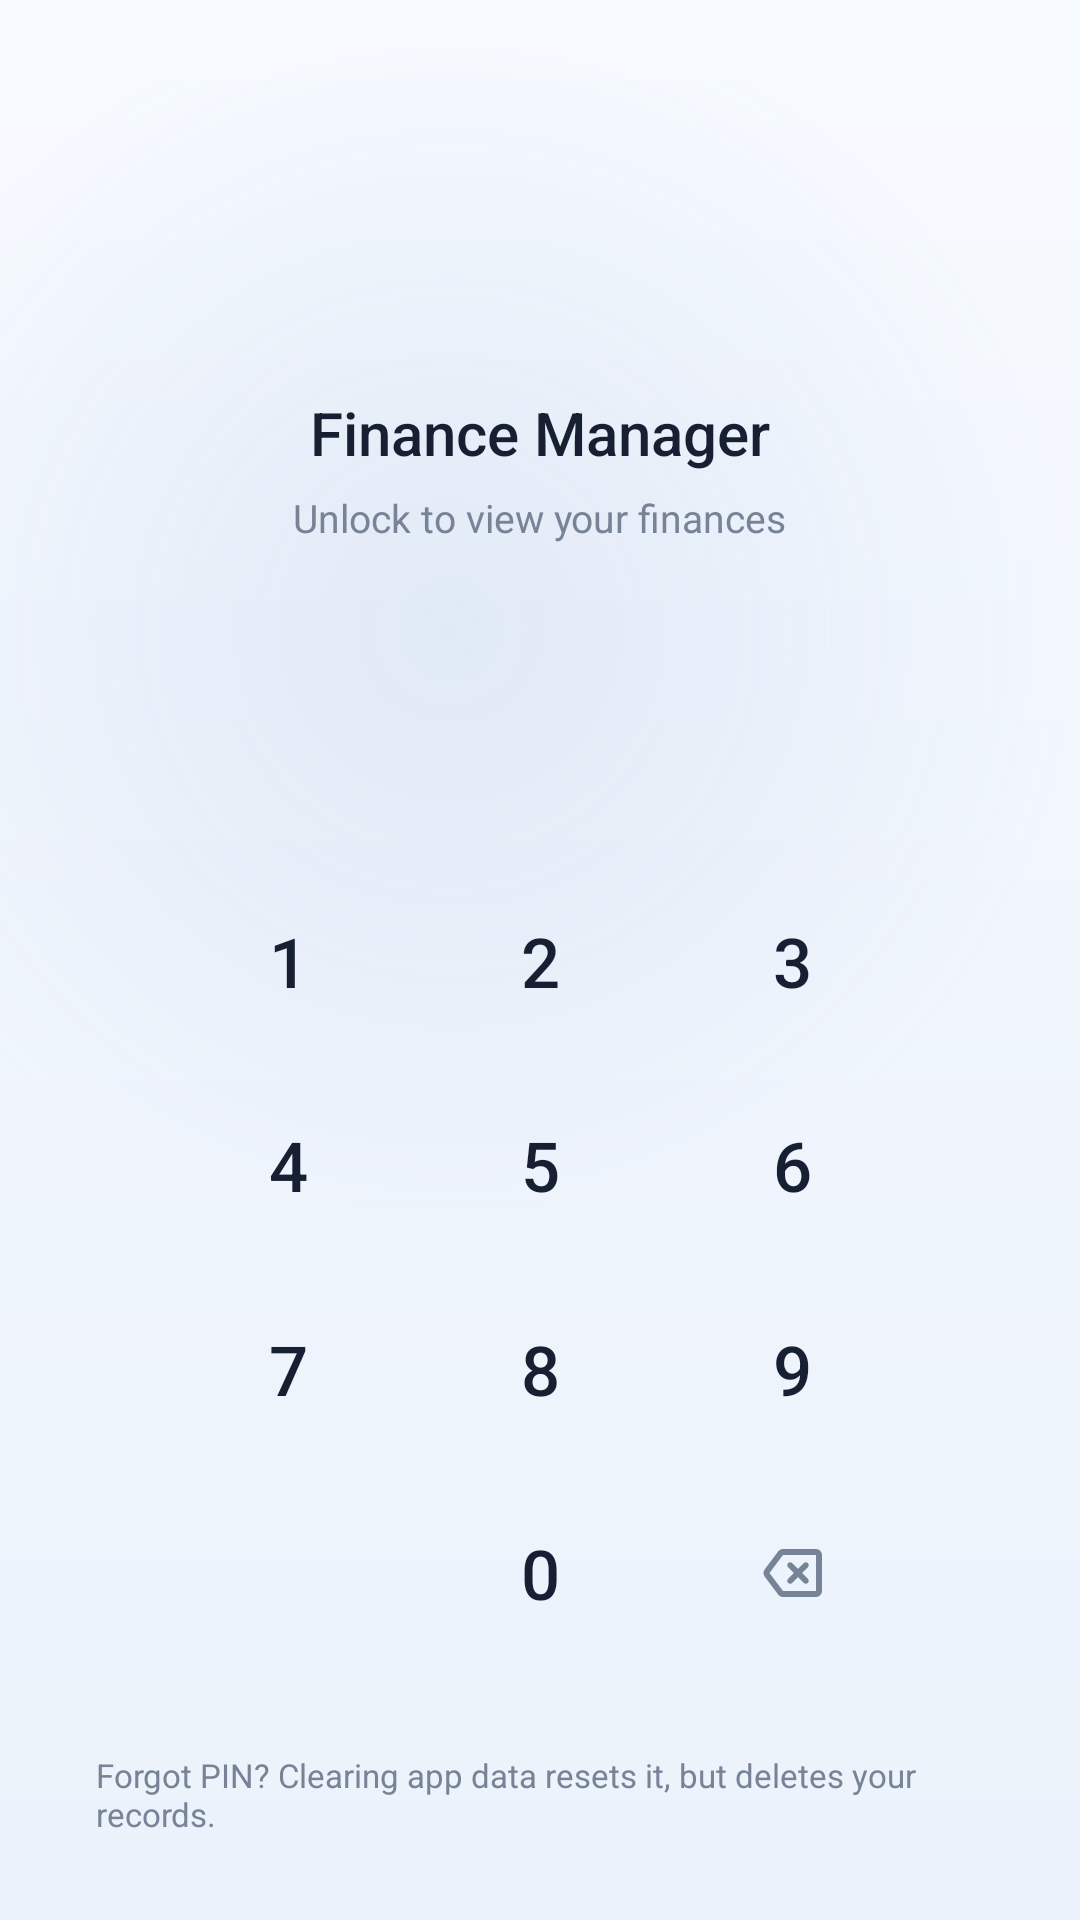

Icon bounding boxes for this 1080x1920 phone screenshot, format rect(x1, y1, x2, y2):
Delete digit: rect(763, 1549, 822, 1597)
